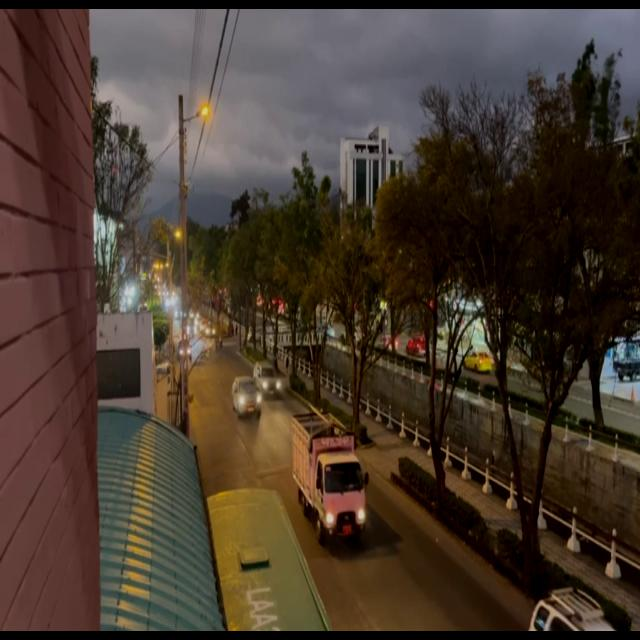CMT: (254, 361, 281, 397)
SUV: (233, 380, 260, 420)
TRUCK: (294, 417, 367, 538)
